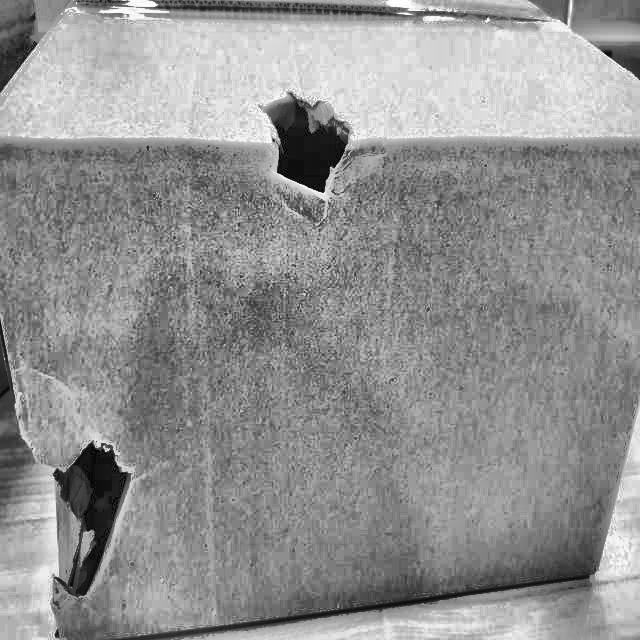box: (0, 0, 639, 639)
hole: (45, 418, 139, 592), (266, 93, 362, 201)
